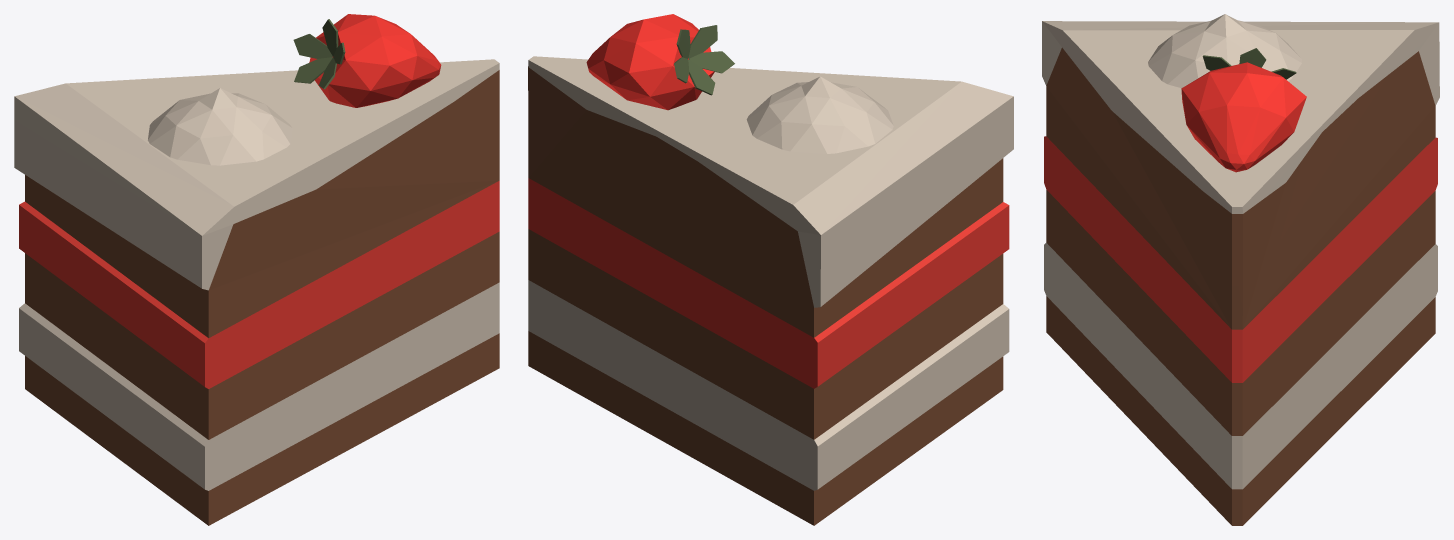
The model's file is SM_Food_Cake_01.fbx.
The picture shows the model from 3 angles, left to right: view 1: azimuth 30°, elevation 25°; view 2: azimuth 150°, elevation 25°; view 3: azimuth 270°, elevation 25°; orthographic projection. The views are drawn at different scales.
Visible parts, largest first — view 1: SM_Food_Cake_01; view 2: SM_Food_Cake_01; view 3: SM_Food_Cake_01.
Boxes of the visible parts, left/top/right/bottom form: SM_Food_Cake_01: left=14, top=14, right=499, bottom=525; SM_Food_Cake_01: left=528, top=14, right=1013, bottom=525; SM_Food_Cake_01: left=1042, top=14, right=1439, bottom=525.
Size of the model in its own units: 0.1164 by 0.1086 by 0.0988.
